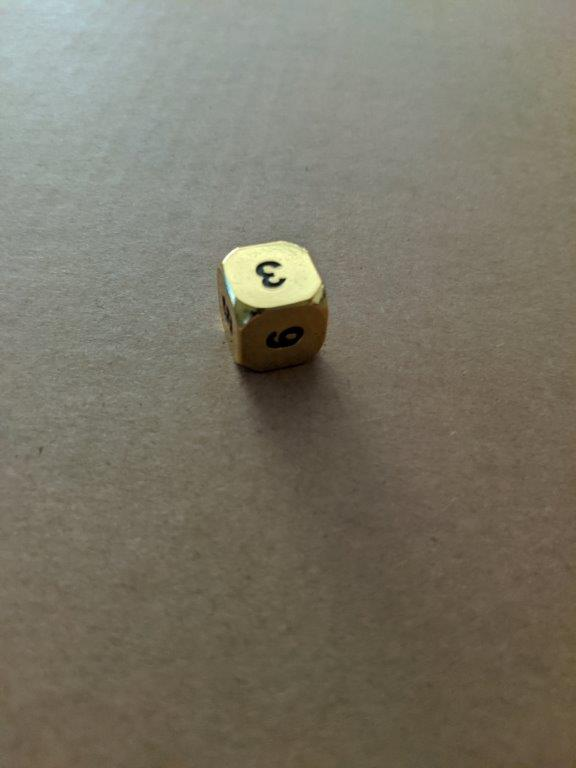d6-3: (215, 240, 330, 376)
